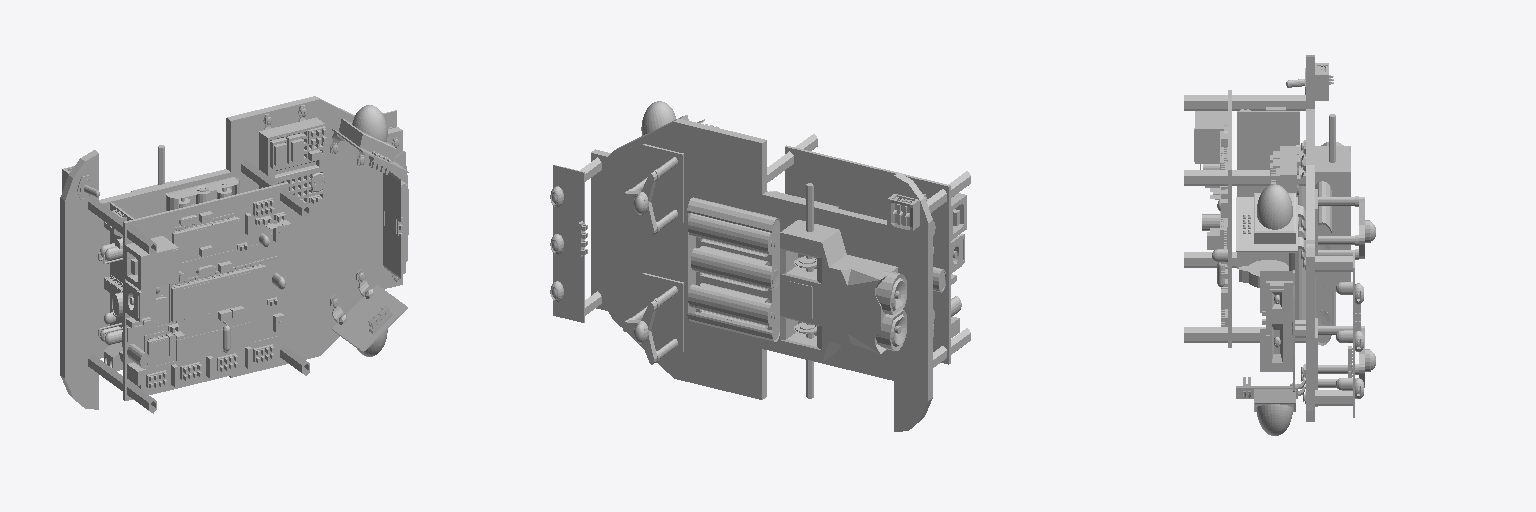
File: robot_sans_roue_centre.obj
The picture shows the model from 3 angles: view 1: azimuth 30°, elevation 25°; view 2: azimuth 150°, elevation 25°; view 3: azimuth 270°, elevation 25°; orthographic projection.
Visible parts, largest first — view 1: Plane.003; view 2: Plane.003; view 3: Plane.003.
Boxes of the visible parts, x1=… form: Plane.003: x1=60, y1=96, x2=408, y2=413; Plane.003: x1=550, y1=101, x2=970, y2=431; Plane.003: x1=1184, y1=55, x2=1375, y2=435.
Size of the model in its own units: 7.25 by 5 by 3.4.